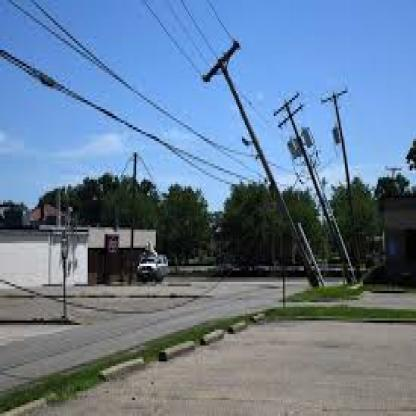Electrical Pole: (195, 36, 337, 300), (268, 86, 366, 294)
